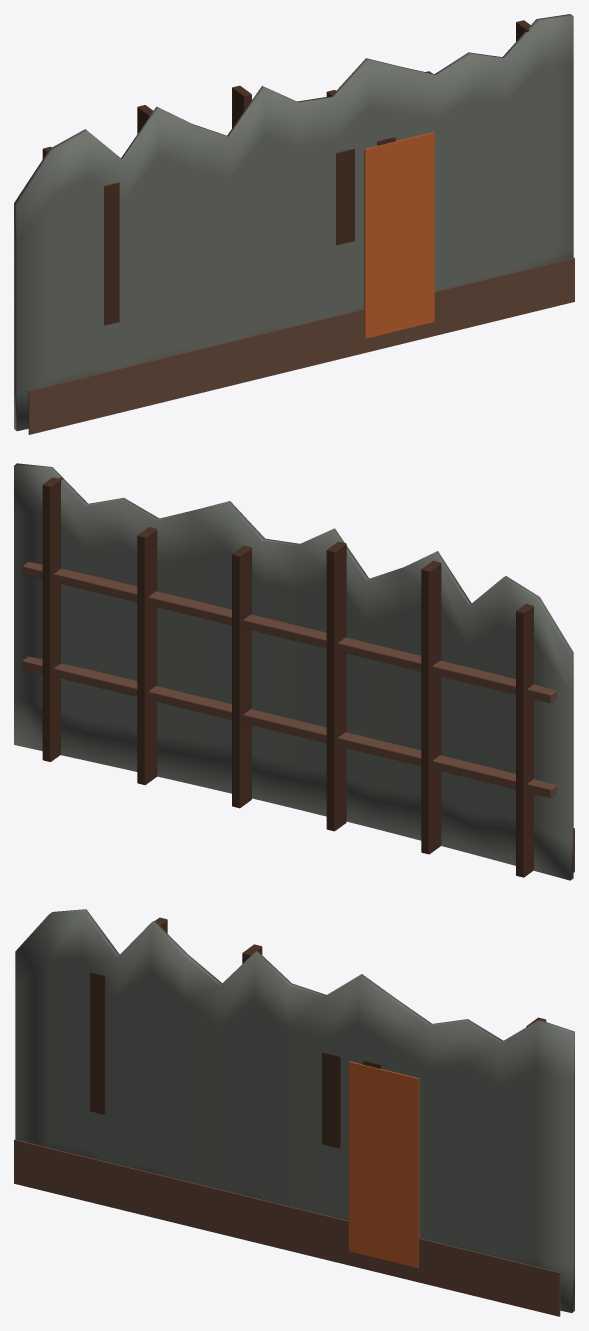
Rendered from prop_hull_plate.glb.
3 renders of one model, top to bottom at view 1: azimuth 30°, elevation 25°; view 2: azimuth 150°, elevation 25°; view 3: azimuth 330°, elevation 25°, orthographic.
Visible parts, largest first — view 1: skin, stringer12, band, frame0; view 2: skin, frame0, stringer12; view 3: skin, stringer12, band, frame0.
Boxes of the visible parts, <box> form: skin: <box>14,14,573,431</box>; stringer12: <box>28,257,574,434</box>; band: <box>364,132,434,338</box>; frame0: <box>42,20,530,325</box>; skin: <box>14,463,573,880</box>; frame0: <box>42,477,533,877</box>; stringer12: <box>22,561,574,872</box>; skin: <box>15,909,574,1312</box>; stringer12: <box>14,1139,560,1316</box>; band: <box>349,1061,419,1268</box>; frame0: <box>90,917,546,1148</box>.
Size of the model in its own units: 8 by 4 by 0.48.
